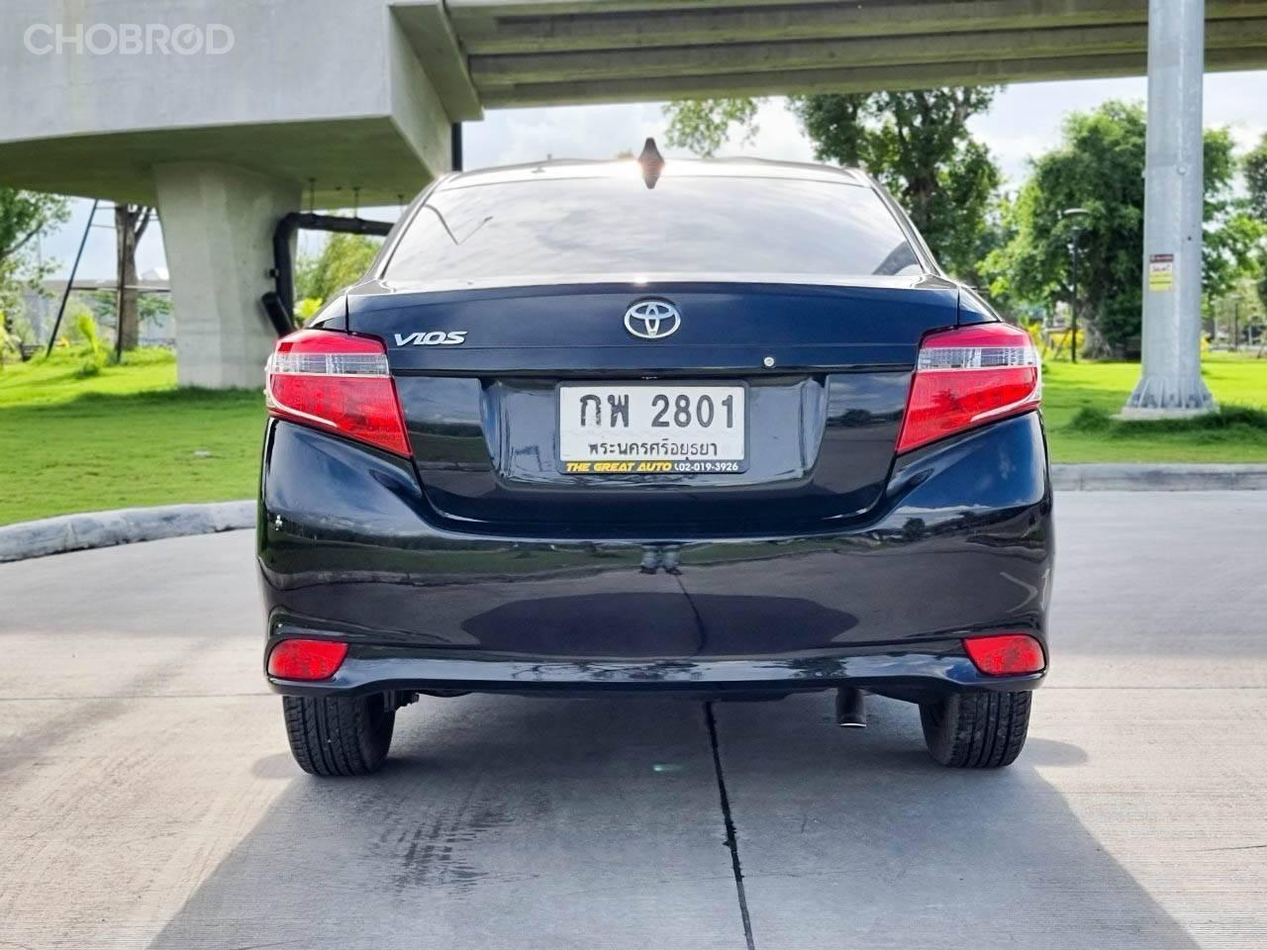license-plate: (553, 377, 749, 478)
